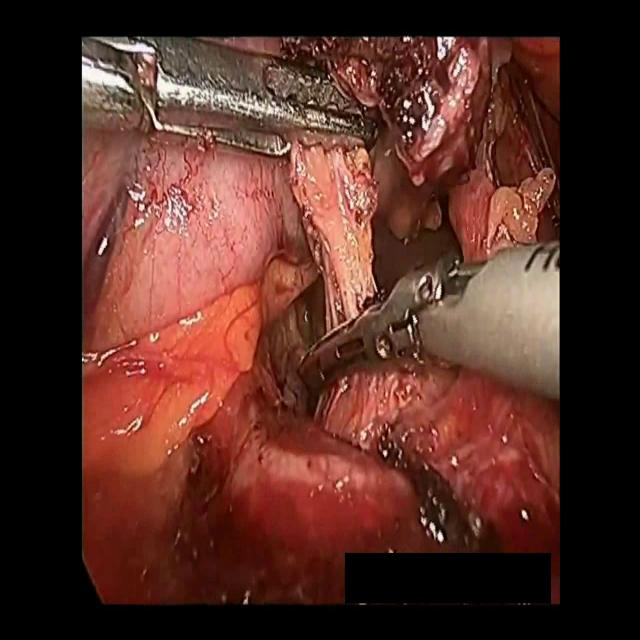surgical-area: (82, 34, 560, 603)
surgical-tool: (298, 237, 559, 406), (82, 36, 380, 140)
